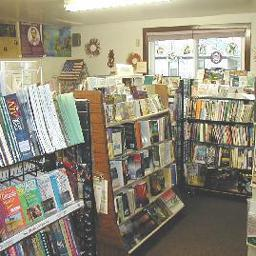Ventana: (149, 34, 243, 72)
